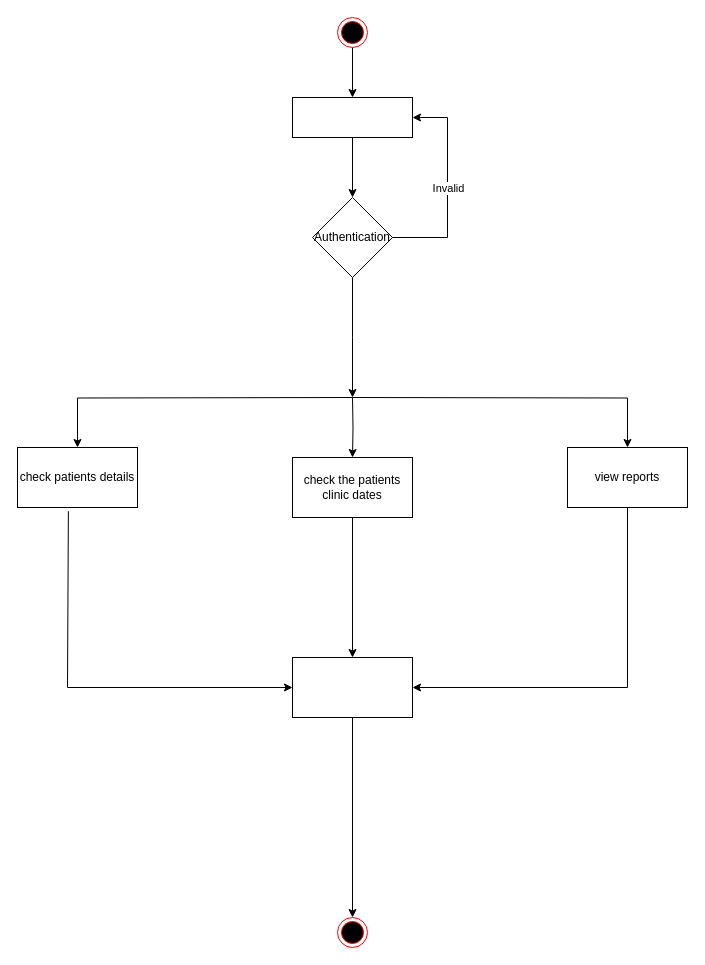
This 705x965 diagram has some shape labels left out. Each missing label, with the centre of its shape:
doctor login: point (352, 117)
log out: point (352, 687)
